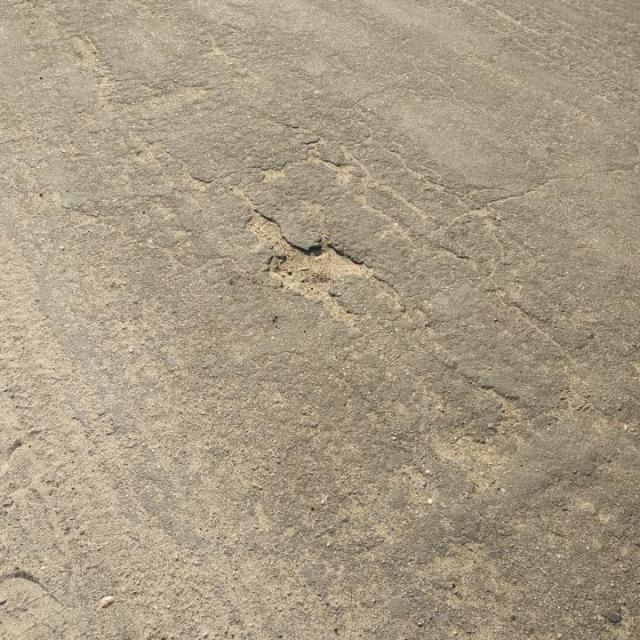pothole: (262, 239, 379, 301), (242, 209, 284, 240)
